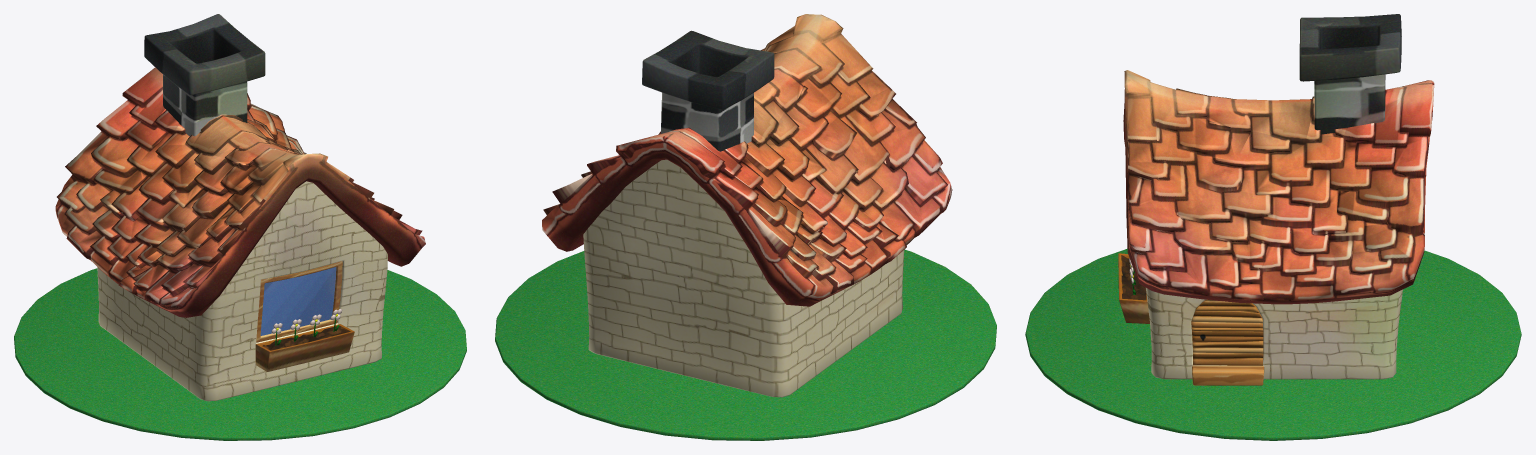
Rendered from house.obj.
The picture shows the model from 3 angles, left to right: view 1: azimuth 30°, elevation 25°; view 2: azimuth 150°, elevation 25°; view 3: azimuth 270°, elevation 25°; orthographic projection. The views are drawn at different scales.
Parts seen in each view (by area): view 1: House_20_Cube.004, Circle; view 2: House_20_Cube.004, Circle; view 3: House_20_Cube.004, Circle.
Part boxes in pixels (x1,y1,x2,y2): House_20_Cube.004: [55, 14, 425, 401]; Circle: [14, 268, 466, 440]; House_20_Cube.004: [542, 14, 952, 397]; Circle: [495, 249, 996, 440]; House_20_Cube.004: [1118, 14, 1434, 385]; Circle: [1025, 248, 1521, 440].
Bounding box in the file's own units: 5.54 × 3.79 × 5.54.
2 materials, 2 textured.
